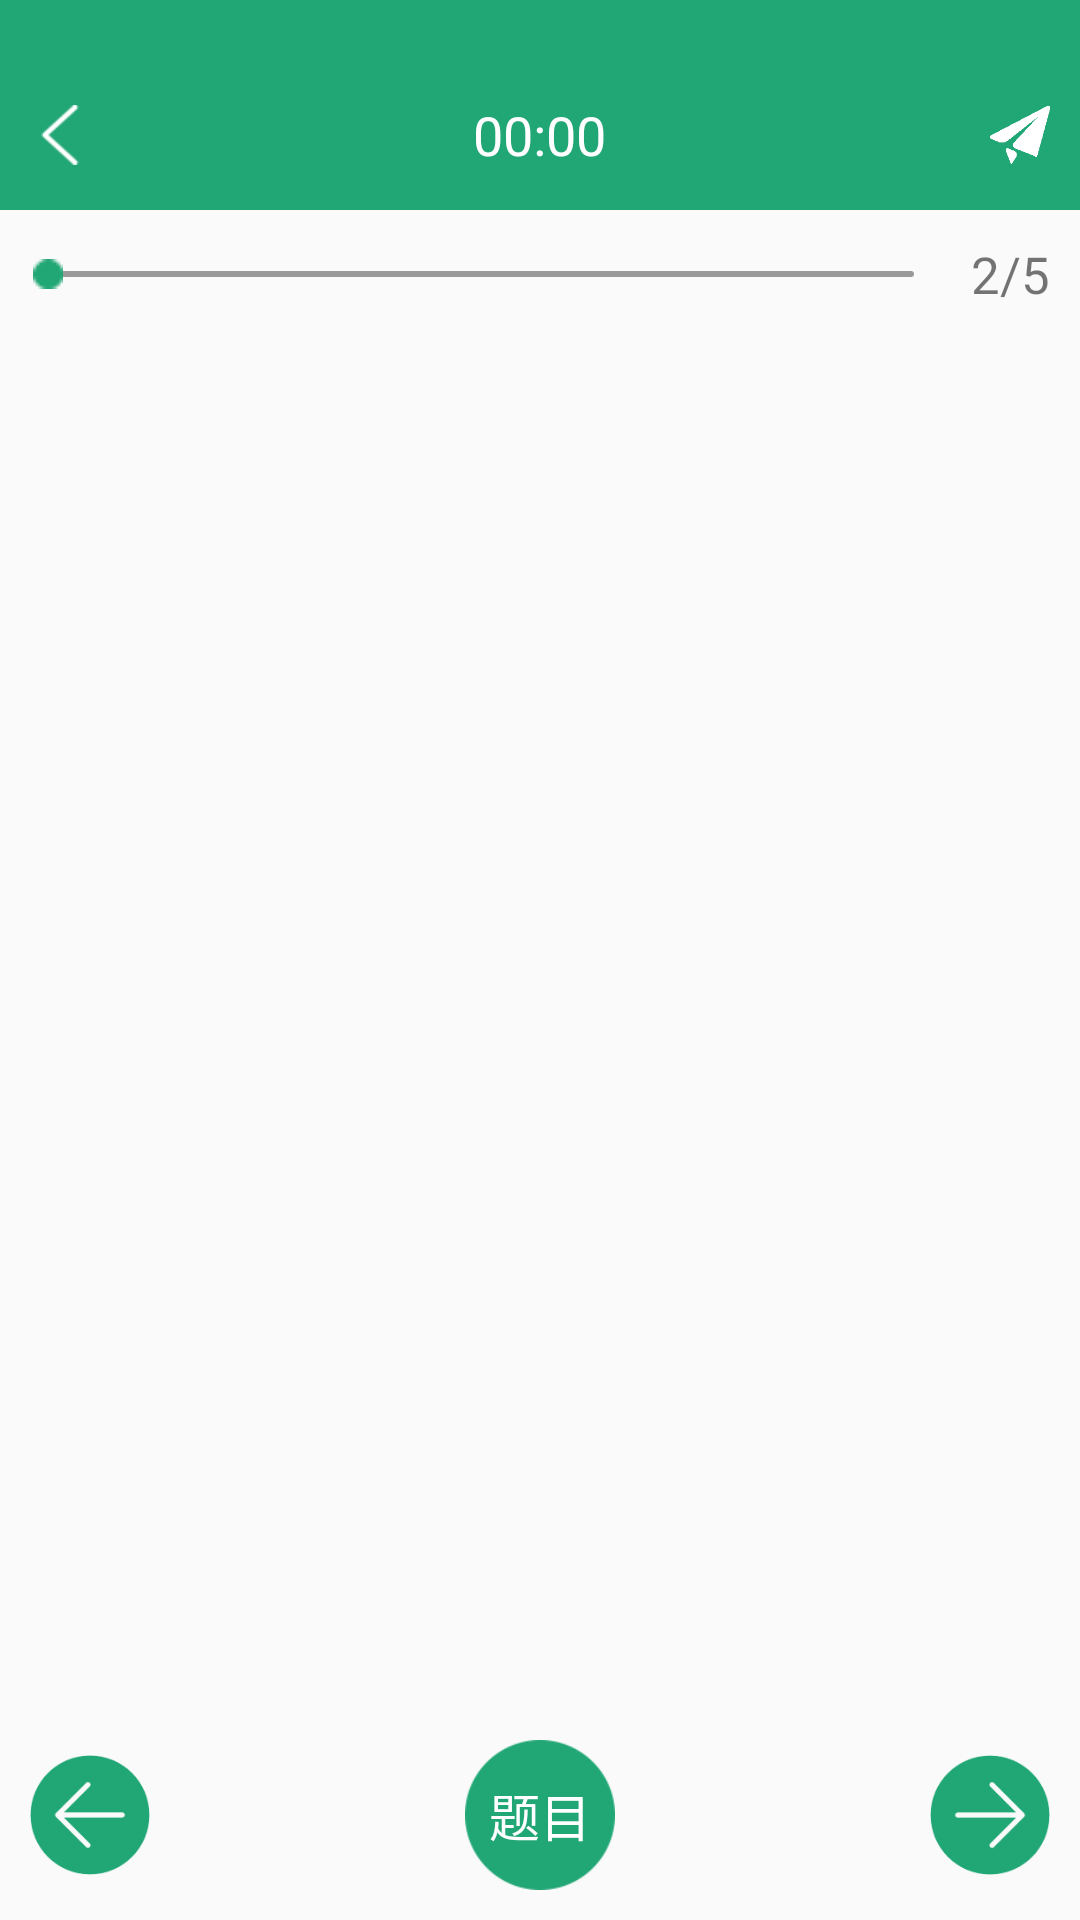

Icon click points for this 1080 x 1920 phone screenshot, format point (x, y):
next question: point (990, 1815)
pre question: point (90, 1815)
